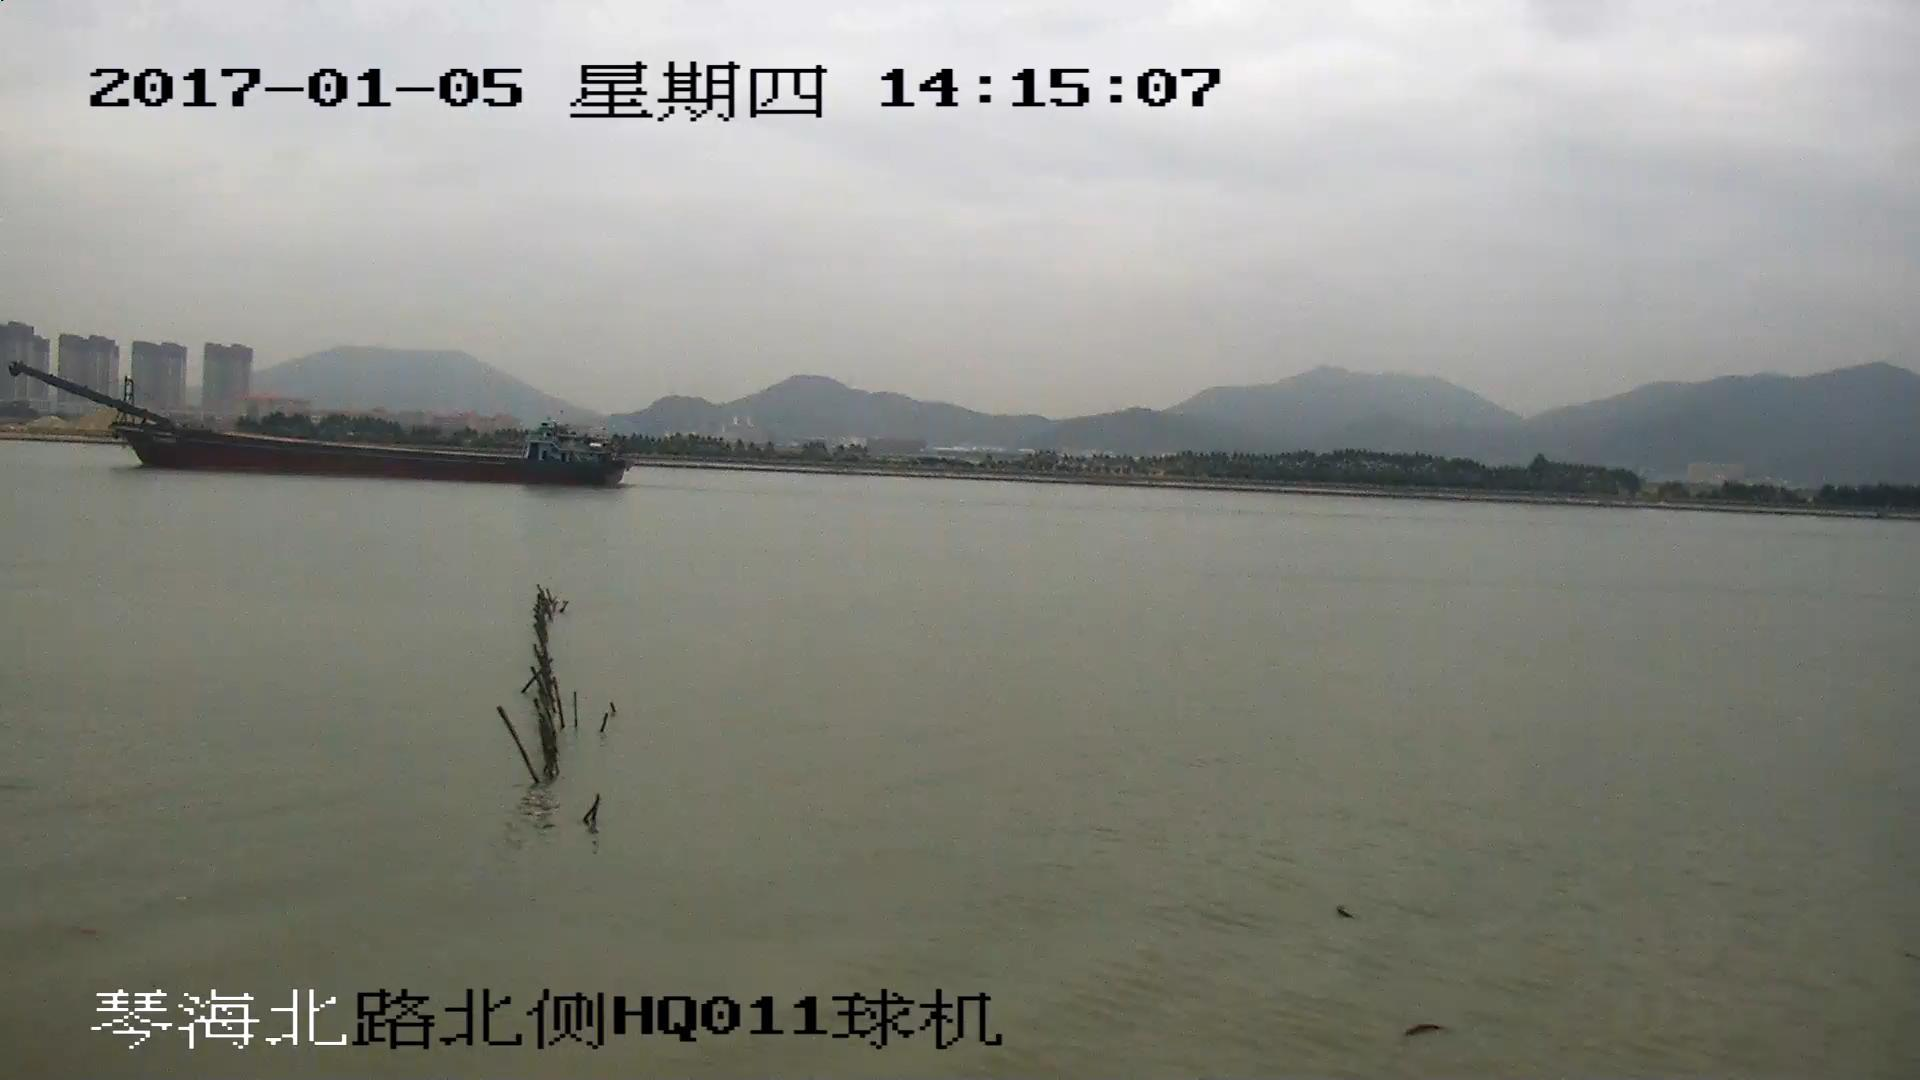Ship: (15, 368, 621, 491)
